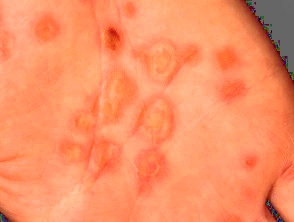SJS-TEN: (0, 0, 277, 222)
